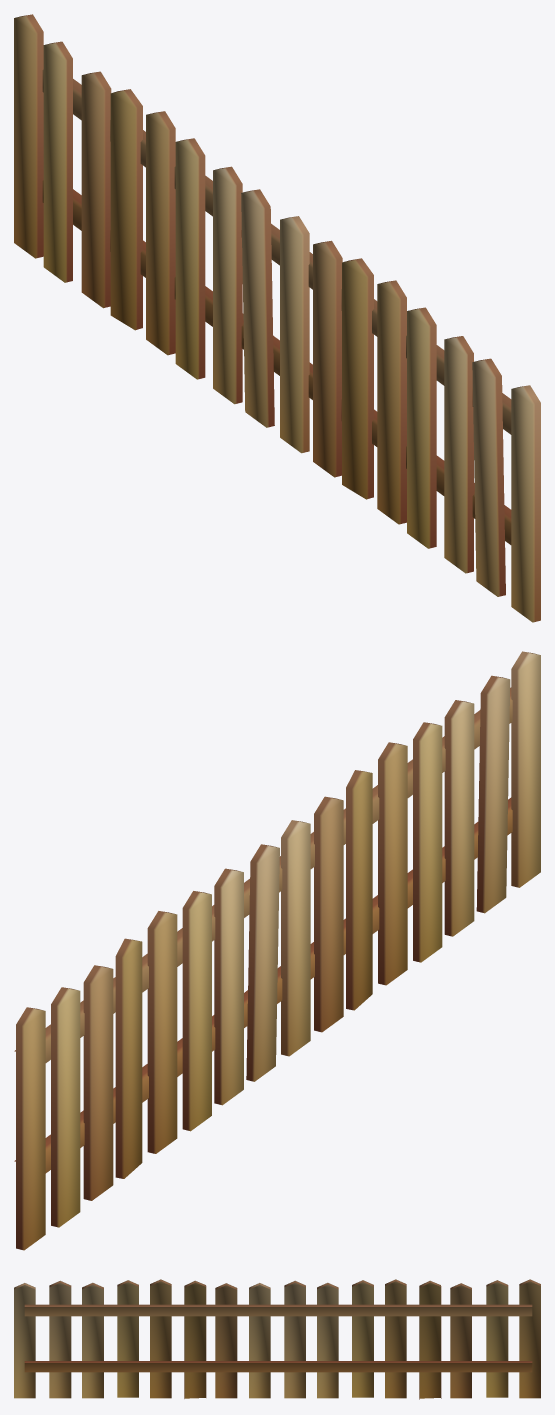
File: WoodFence01.fbx
3 views of the same model, one above another, from view 1: azimuth 30°, elevation 25°; view 2: azimuth 150°, elevation 25°; view 3: azimuth 270°, elevation 25° (orthographic). The views are drawn at different scales.
Visible parts, largest first — view 1: WoodFence01; view 2: WoodFence01; view 3: WoodFence01.
Part boxes in pixels (bbox=[...]): WoodFence01: bbox=[14, 14, 540, 622]; WoodFence01: bbox=[14, 651, 540, 1250]; WoodFence01: bbox=[14, 1279, 540, 1399].
Bounding box in the file's own units: 21.73 × 214 × 857.
